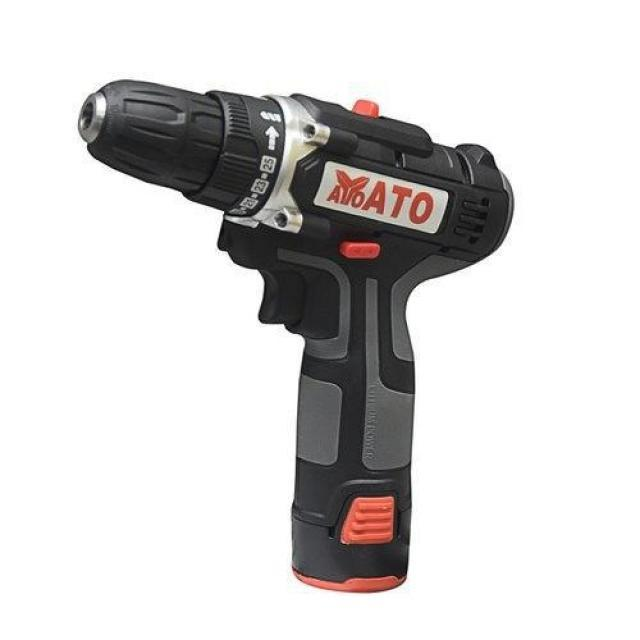drill: (78, 79, 516, 596)
